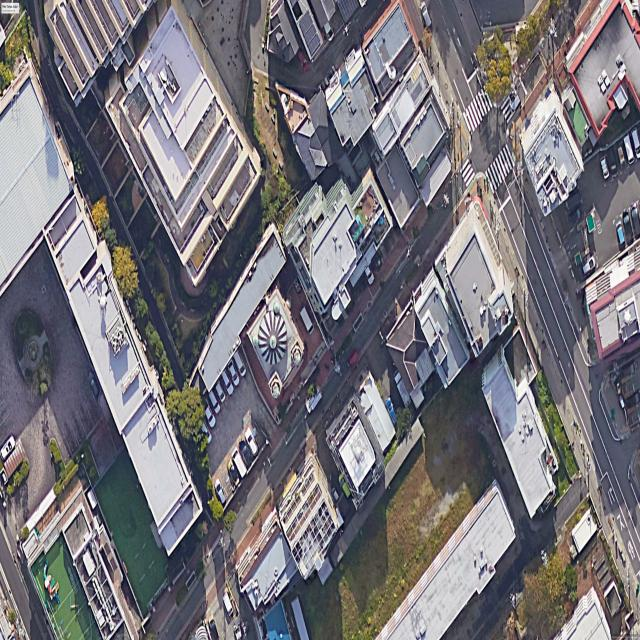Home: (276, 83, 344, 180), (387, 303, 434, 409), (288, 0, 322, 61), (267, 0, 299, 63), (264, 602, 291, 640), (310, 0, 335, 39)
mosque: (248, 289, 304, 399)
